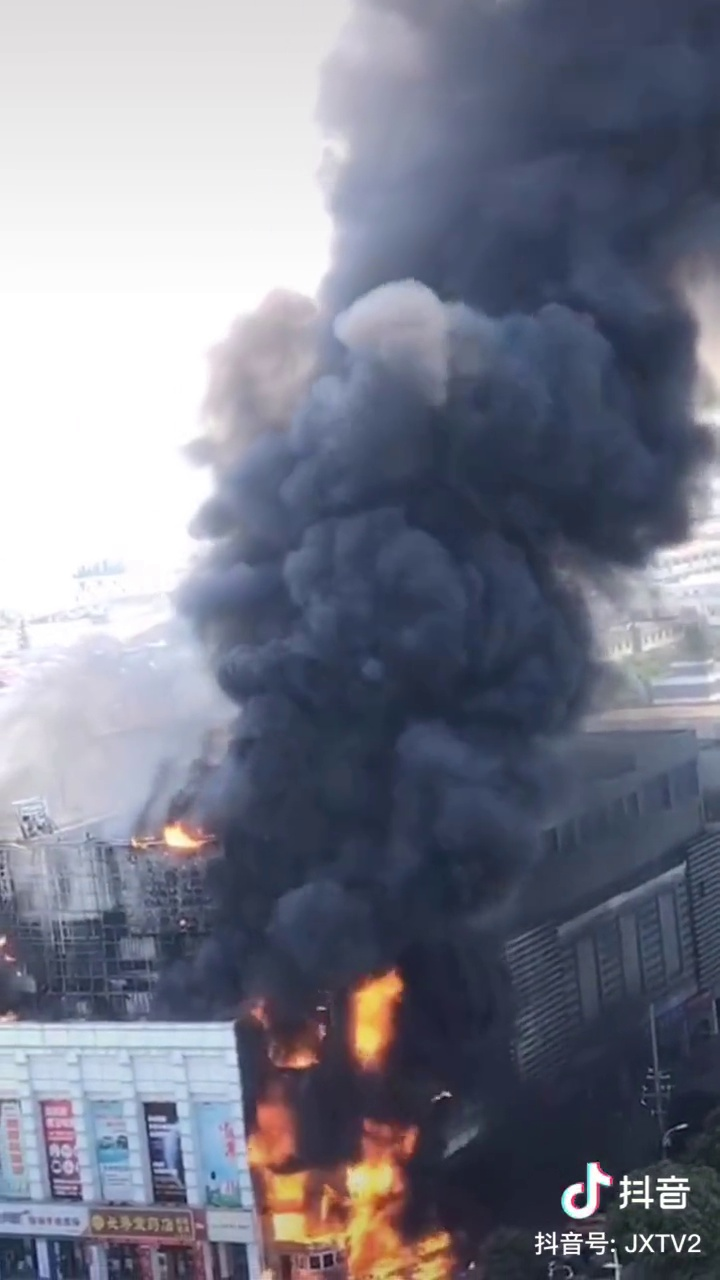fire: (251, 1002, 455, 1275)
yanwu: (237, 45, 672, 987)
